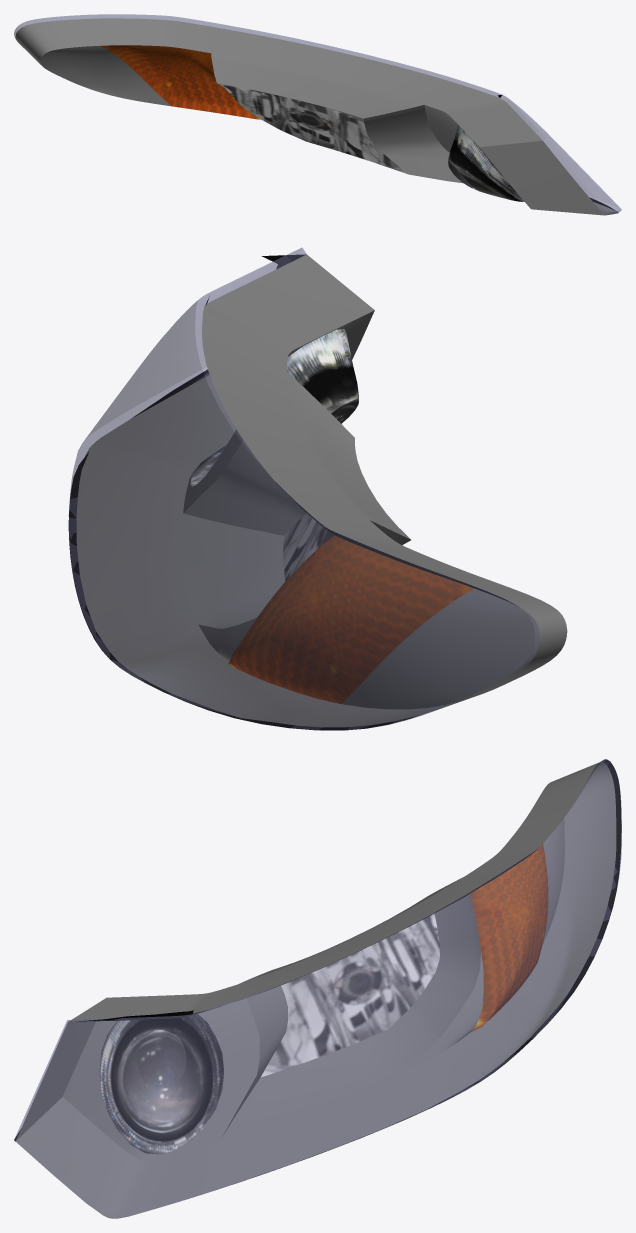
3 renders of one model, top to bottom at view 1: azimuth 30°, elevation 25°; view 2: azimuth 150°, elevation 25°; view 3: azimuth 270°, elevation 25°, orthographic. The views are drawn at different scales.
Visible parts, largest first — view 1: H031_061B_L_1_DaS_H031_061B_L, H031_061B_L_H031_061B_L_2_N, H031_061B_L_H031_061B_L_3_N, H031_061B_L_H031_061B_L_6_DTaSI, H031_061B_L_H031_061B_L_4_N; view 2: H031_061B_L_H031_061B_L_6_DTaSI, H031_061B_L_1_DaS_H031_061B_L, H031_061B_L_H031_061B_L_2_N, H031_061B_L_H031_061B_L_4_N, H031_061B_L_H031_061B_L_5_D, H031_061B_L_H031_061B_L_3_N; view 3: H031_061B_L_H031_061B_L_6_DTaSI, H031_061B_L_1_DaS_H031_061B_L, H031_061B_L_H031_061B_L_4_N, H031_061B_L_H031_061B_L_3_N, H031_061B_L_H031_061B_L_2_N, H031_061B_L_H031_061B_L_5_D.
Part boxes in pixels (bbox=[...]): H031_061B_L_1_DaS_H031_061B_L: bbox=[15, 18, 618, 215]; H031_061B_L_H031_061B_L_2_N: bbox=[99, 45, 261, 120]; H031_061B_L_H031_061B_L_3_N: bbox=[218, 83, 407, 174]; H031_061B_L_H031_061B_L_6_DTaSI: bbox=[14, 14, 621, 214]; H031_061B_L_H031_061B_L_4_N: bbox=[448, 125, 524, 201]; H031_061B_L_H031_061B_L_6_DTaSI: bbox=[68, 247, 539, 730]; H031_061B_L_1_DaS_H031_061B_L: bbox=[76, 254, 567, 727]; H031_061B_L_H031_061B_L_2_N: bbox=[228, 535, 473, 703]; H031_061B_L_H031_061B_L_4_N: bbox=[190, 329, 358, 486]; H031_061B_L_H031_061B_L_5_D: bbox=[68, 254, 518, 730]; H031_061B_L_H031_061B_L_3_N: bbox=[283, 513, 334, 580]; H031_061B_L_H031_061B_L_6_DTaSI: bbox=[14, 759, 621, 1218]; H031_061B_L_1_DaS_H031_061B_L: bbox=[15, 761, 616, 1218]; H031_061B_L_H031_061B_L_4_N: bbox=[99, 1014, 223, 1154]; H031_061B_L_H031_061B_L_3_N: bbox=[261, 914, 440, 1076]; H031_061B_L_H031_061B_L_2_N: bbox=[470, 844, 548, 1031]; H031_061B_L_H031_061B_L_5_D: bbox=[14, 759, 621, 1184].
Size of the model in its own units: 55.64 by 19.68 by 53.55.
